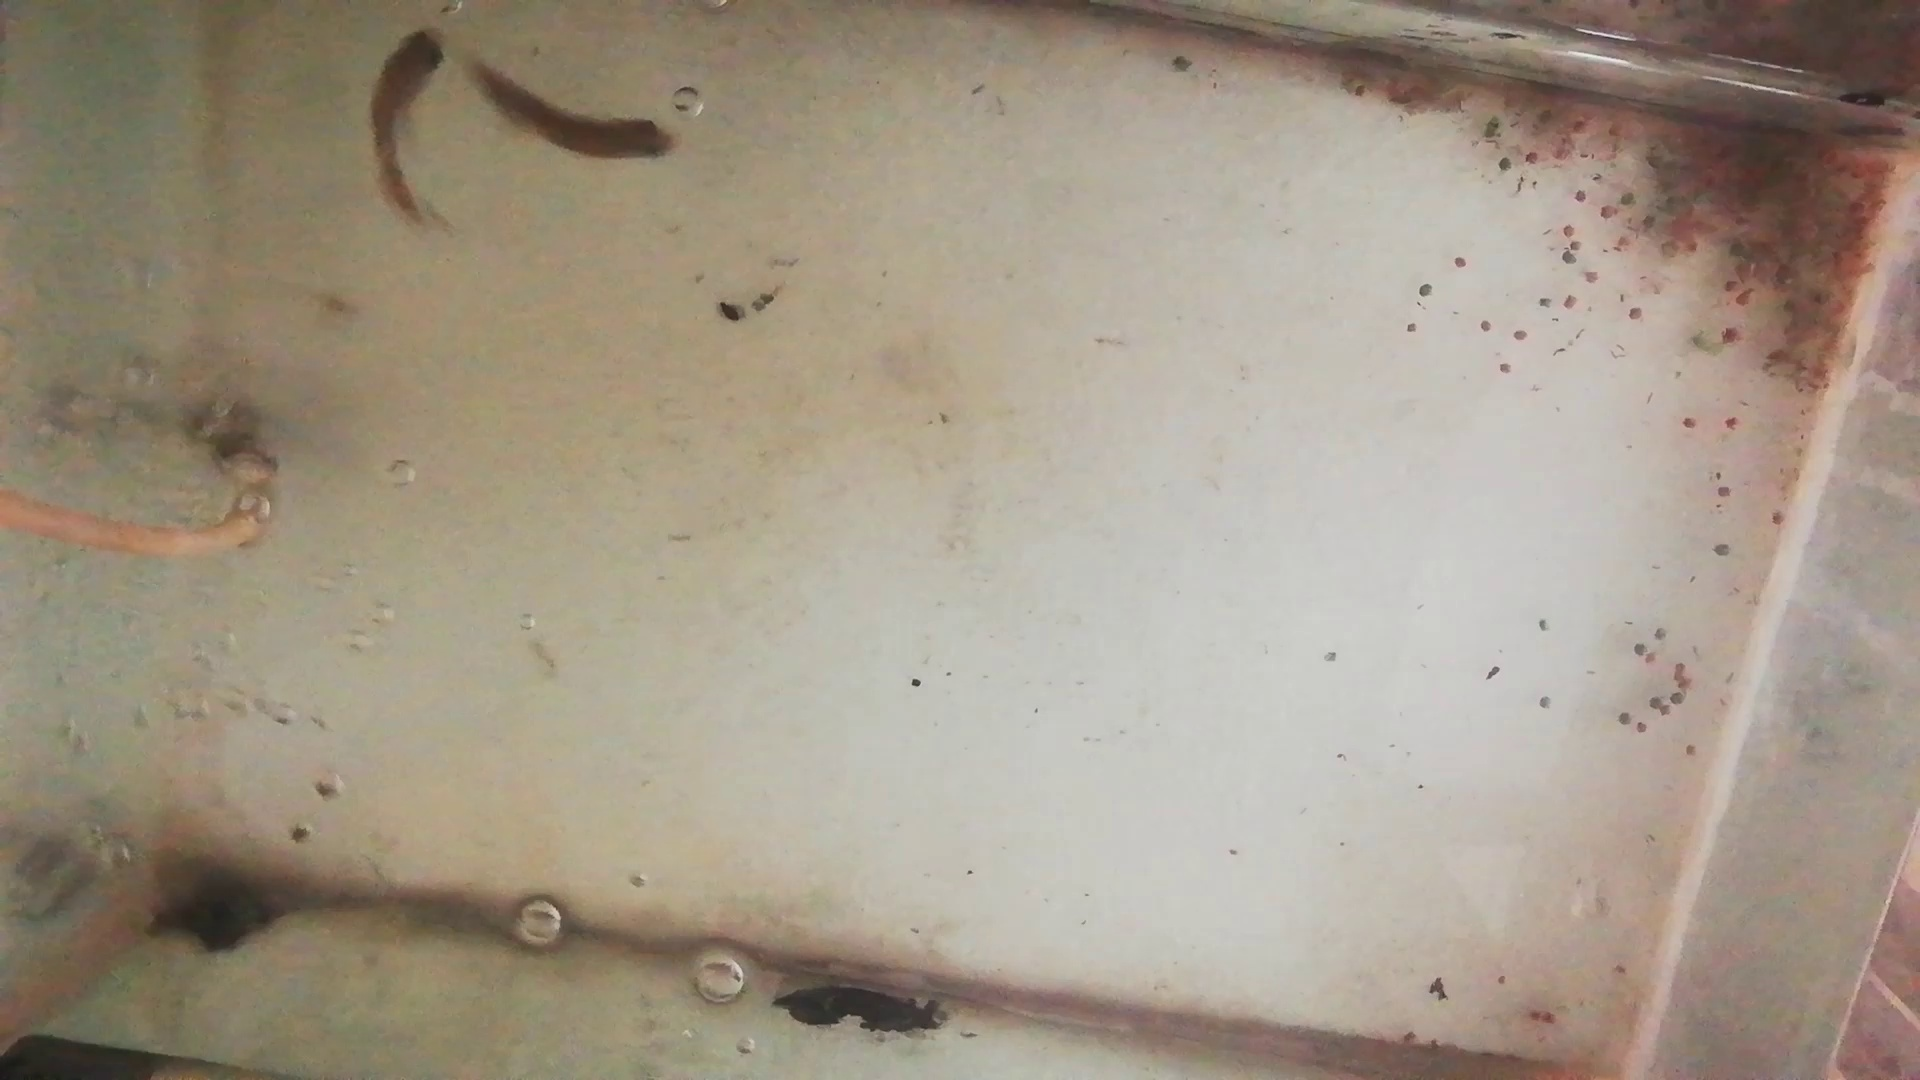fish: (458, 53, 676, 165), (367, 22, 443, 228)
